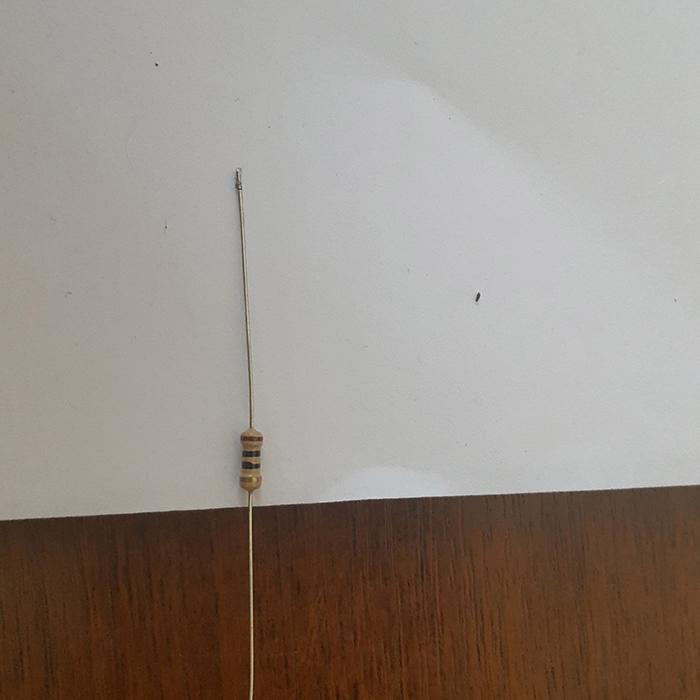resistor: (238, 425, 263, 493)
